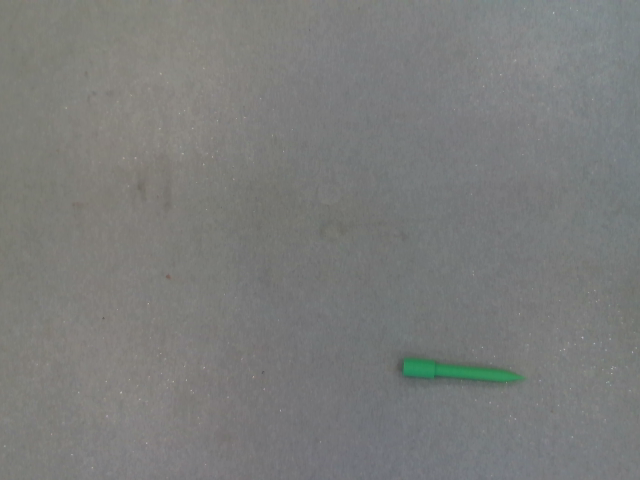Probe: (396, 354, 533, 396)
